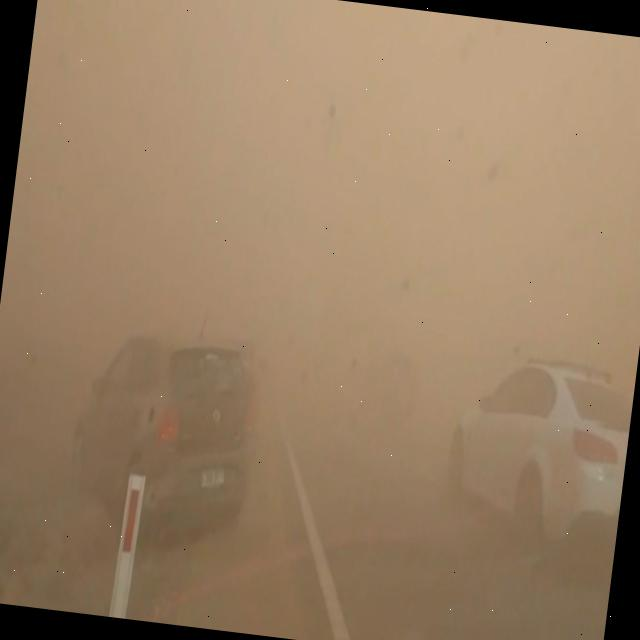car: (58, 320, 263, 558), (443, 347, 634, 556)
